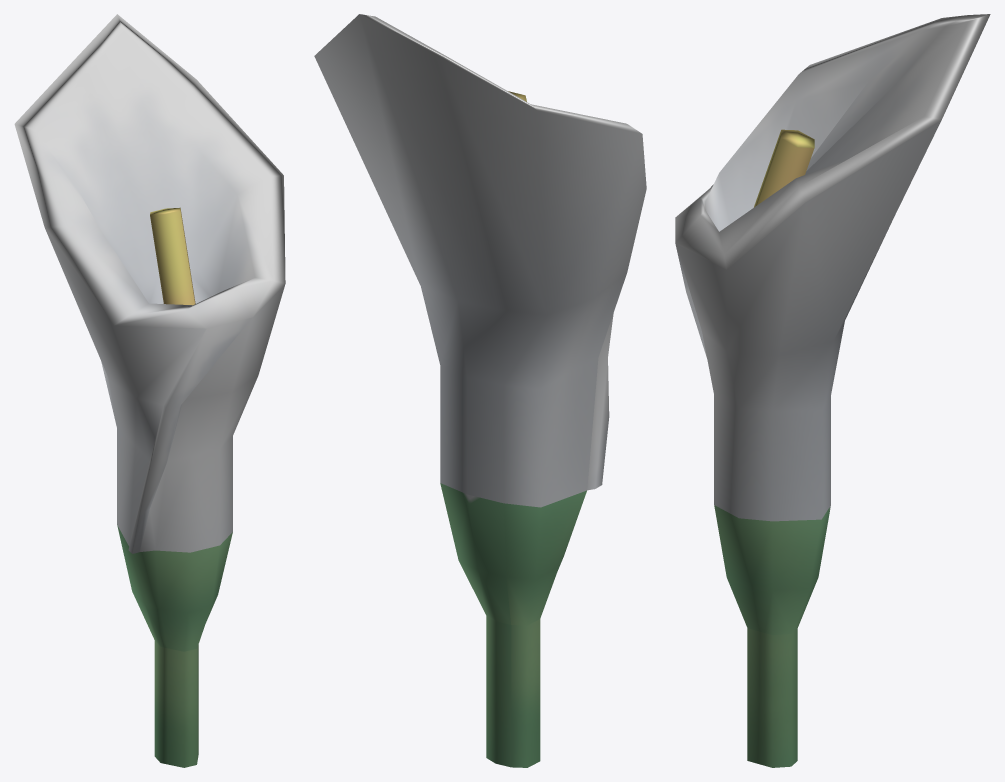
File: BgMD_color_flower01.fbx
3 renders of one model, left to right at view 1: azimuth 30°, elevation 25°; view 2: azimuth 150°, elevation 25°; view 3: azimuth 270°, elevation 25°, orthographic. The views are drawn at different scales.
Parts seen in each view (by area): view 1: BgMD_color_flower01; view 2: BgMD_color_flower01; view 3: BgMD_color_flower01.
Boxes of the visible parts, bbox=[...] form: BgMD_color_flower01: bbox=[14, 14, 285, 767]; BgMD_color_flower01: bbox=[314, 14, 646, 767]; BgMD_color_flower01: bbox=[675, 14, 990, 767].
Size of the model in its own units: 7.07 by 18.97 by 7.12.
1 material, 1 textured.
